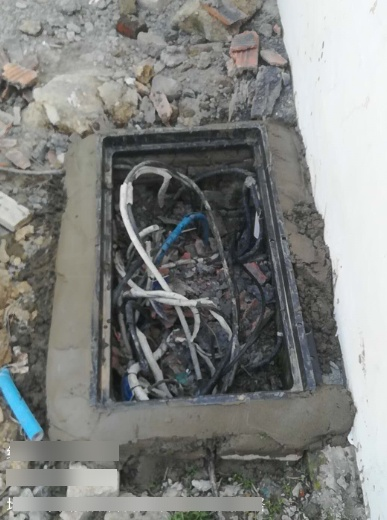lose: (90, 121, 321, 410)
